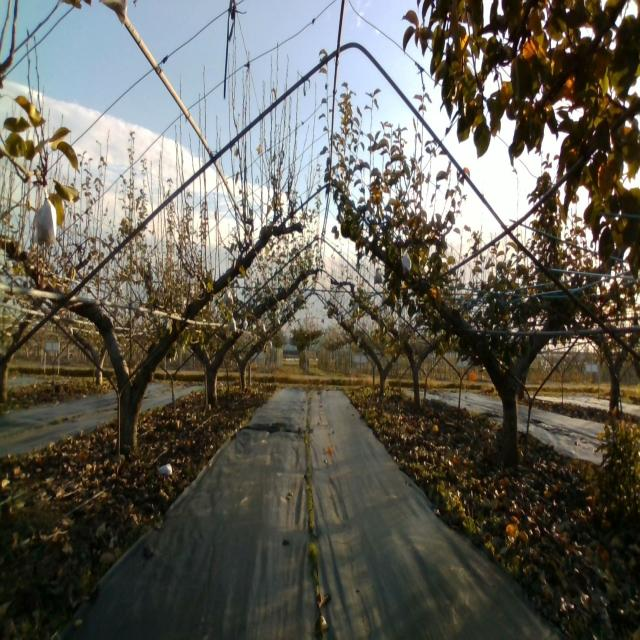pearbags: (32, 194, 58, 244)
